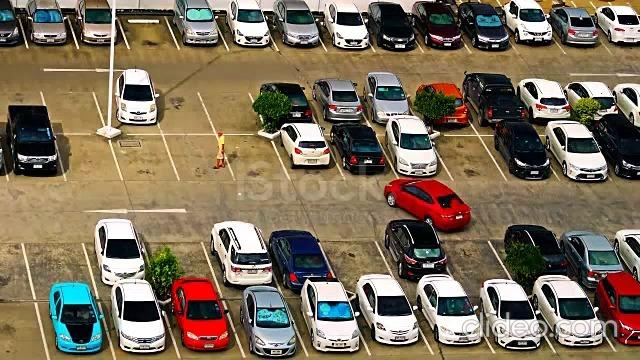car: (524, 287, 618, 358), (282, 290, 372, 360), (219, 290, 309, 359), (371, 222, 463, 289), (464, 289, 556, 355), (157, 290, 244, 359), (345, 290, 434, 356), (405, 290, 495, 355), (97, 289, 179, 359), (34, 290, 114, 360), (199, 221, 281, 289), (553, 221, 637, 287), (257, 223, 339, 288), (78, 221, 157, 288), (503, 221, 582, 288), (531, 125, 615, 180), (476, 128, 558, 181), (374, 128, 453, 181), (322, 128, 399, 181), (270, 128, 344, 183), (582, 286, 640, 354), (91, 84, 162, 134), (0, 131, 66, 183), (584, 125, 640, 183), (453, 83, 528, 125), (247, 83, 319, 126), (349, 82, 420, 124), (402, 83, 474, 124), (301, 83, 371, 125), (538, 16, 612, 55), (495, 16, 566, 56), (509, 81, 578, 122), (558, 81, 625, 121), (452, 14, 519, 54), (406, 14, 471, 54), (357, 16, 423, 53), (213, 15, 279, 51), (166, 14, 229, 51), (309, 17, 374, 52), (67, 14, 129, 50), (586, 16, 640, 55), (19, 14, 79, 49), (265, 17, 326, 51)
